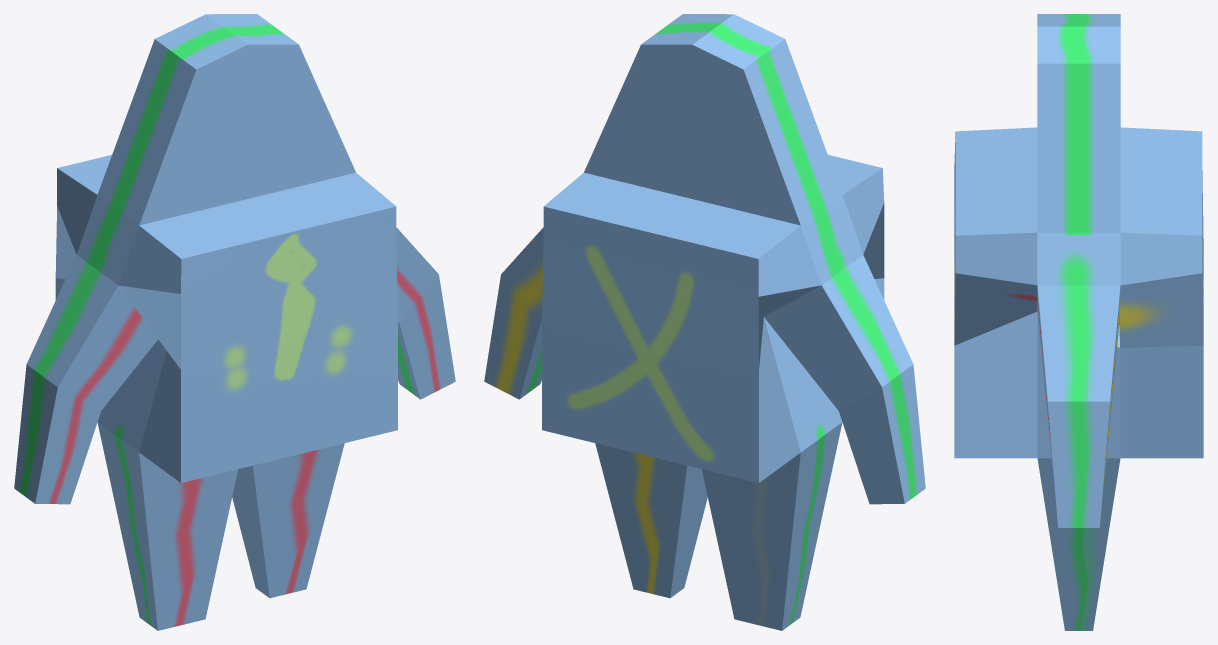
Rendered from idle4.gltf.
3 renders of one model, left to right at view 1: azimuth 30°, elevation 25°; view 2: azimuth 150°, elevation 25°; view 3: azimuth 270°, elevation 25°, orthographic.
Visible parts, largest first — view 1: Cube; view 2: Cube; view 3: Cube.
Boxes of the visible parts, x1=… form: Cube: x1=14, y1=14, x2=455, y2=630; Cube: x1=484, y1=14, x2=925, y2=630; Cube: x1=954, y1=14, x2=1203, y2=630.
Size of the model in its own units: 3.91 by 5.12 by 2.02.
